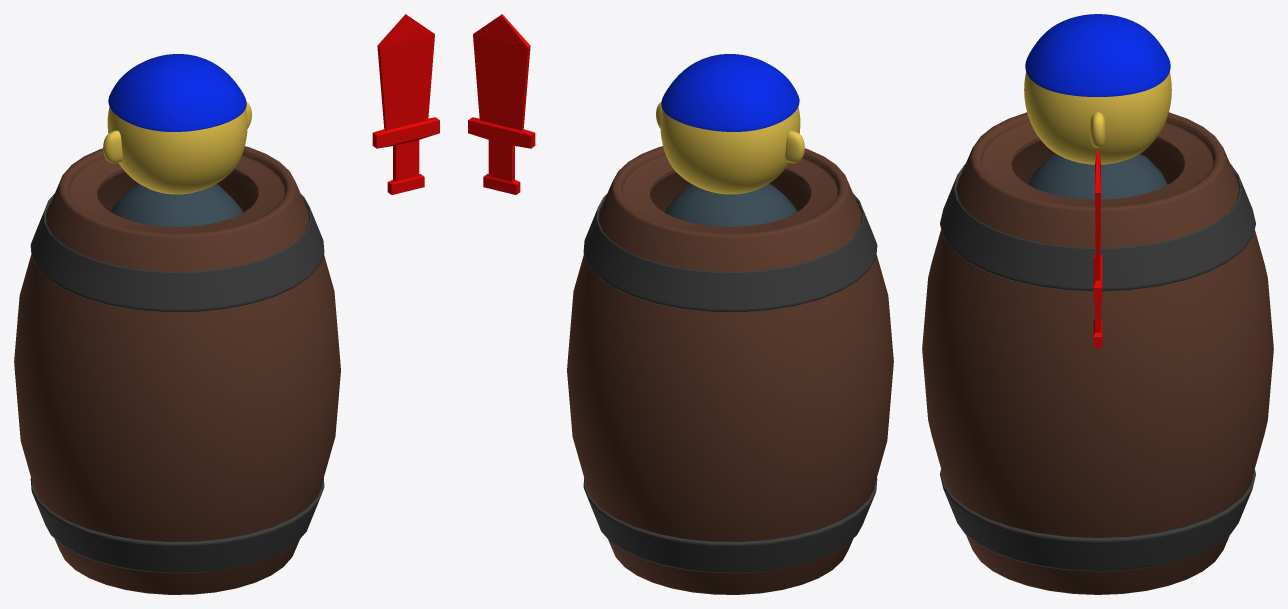
The model's file is Roulette.fbx.
3 renders of one model, left to right at view 1: azimuth 30°, elevation 25°; view 2: azimuth 150°, elevation 25°; view 3: azimuth 270°, elevation 25°, orthographic. The views are drawn at different scales.
Parts seen in each view (by area): view 1: Barrel, Pirate, Sword; view 2: Barrel, Pirate, Sword; view 3: Barrel, Pirate, Sword.
Part boxes in pixels (x1,y1,x2,y2): Barrel: (14, 146, 340, 594); Pirate: (103, 54, 251, 226); Sword: (372, 14, 439, 194); Barrel: (567, 146, 893, 594); Pirate: (656, 54, 804, 226); Sword: (468, 14, 535, 194); Barrel: (922, 112, 1273, 594); Pirate: (1024, 14, 1171, 199); Sword: (1093, 151, 1102, 347).
Size of the model in its own units: 463 by 533 by 327.
